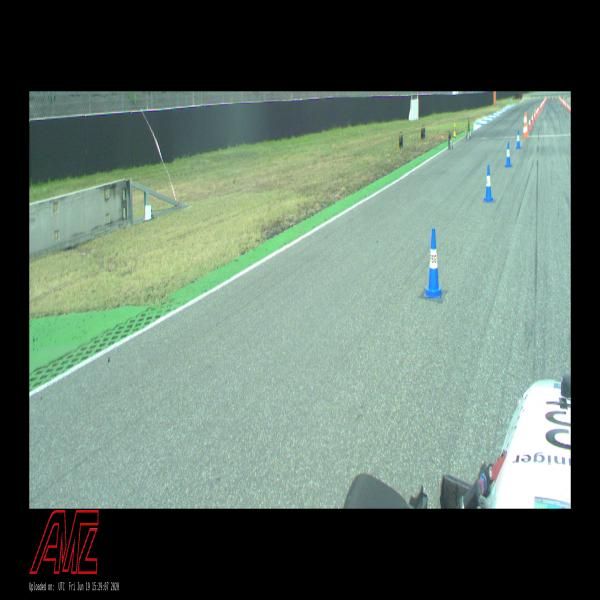blue_cone: (424, 229, 442, 297), (484, 165, 493, 202), (505, 142, 511, 167), (516, 130, 520, 148)
large_orange_cone: (522, 112, 527, 138), (526, 112, 528, 138)
orange_cone: (528, 116, 532, 130), (531, 113, 534, 124)
yellow_cone: (453, 123, 456, 136)
